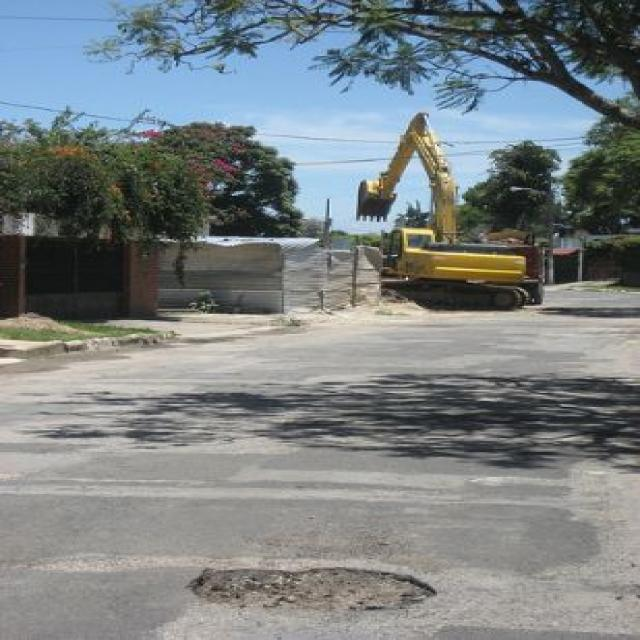pothole: (180, 559, 435, 617)
